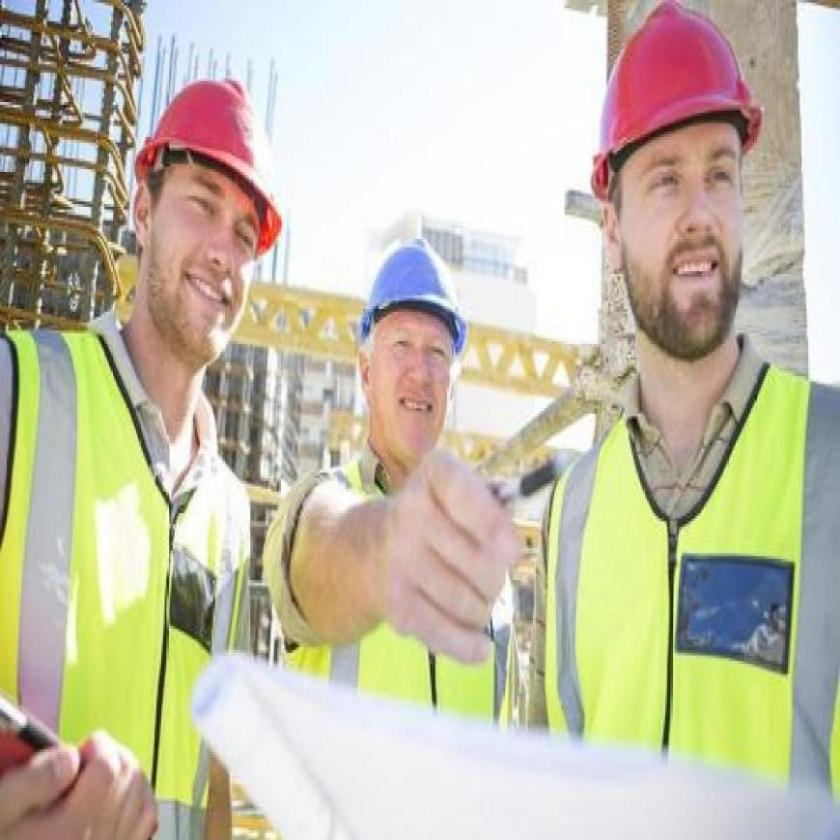Con_casco: (600, 10, 752, 403), (128, 68, 290, 412), (351, 221, 477, 493)
